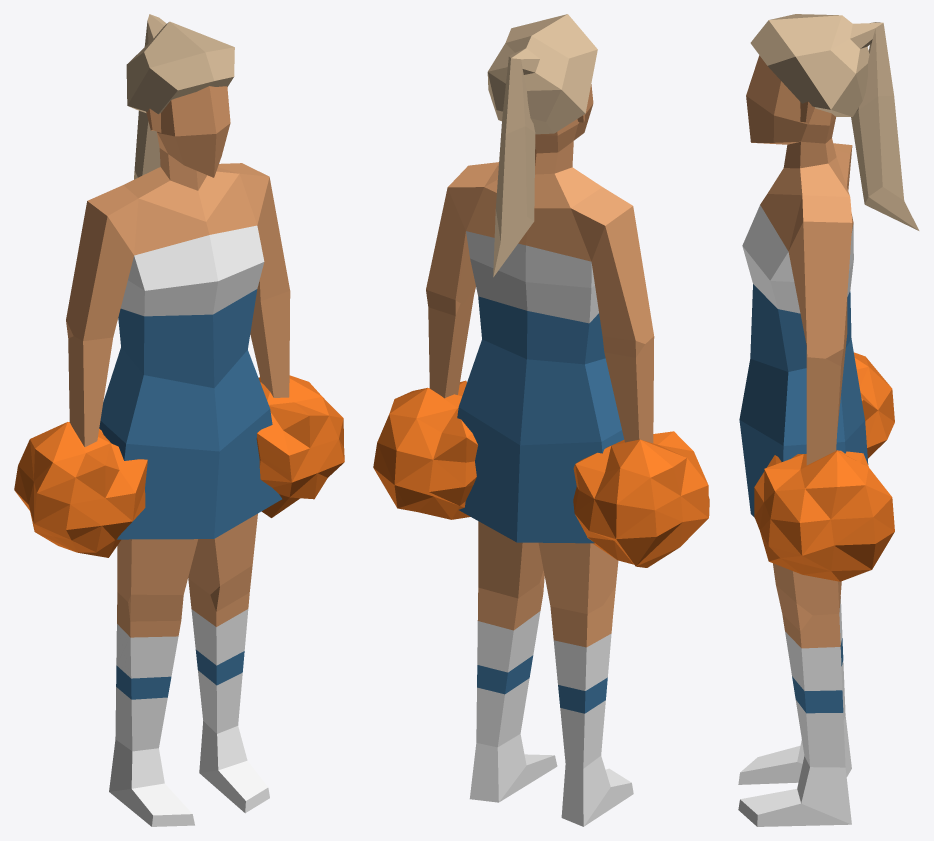
File: woman-cheerleader.glb
3 renders of one model, left to right at view 1: azimuth 30°, elevation 25°; view 2: azimuth 150°, elevation 25°; view 3: azimuth 270°, elevation 25°, orthographic. The views are drawn at different scales.
Parts seen in each view (by area): view 1: woman-cheerleader; view 2: woman-cheerleader; view 3: woman-cheerleader.
Part boxes in pixels (x1,y1,x2,y2): woman-cheerleader: (14,14,344,826); woman-cheerleader: (373,14,709,826); woman-cheerleader: (738,14,919,826).
Size of the model in its own units: 0.7892 by 1.85 by 0.3887.
1 material, 1 textured.
